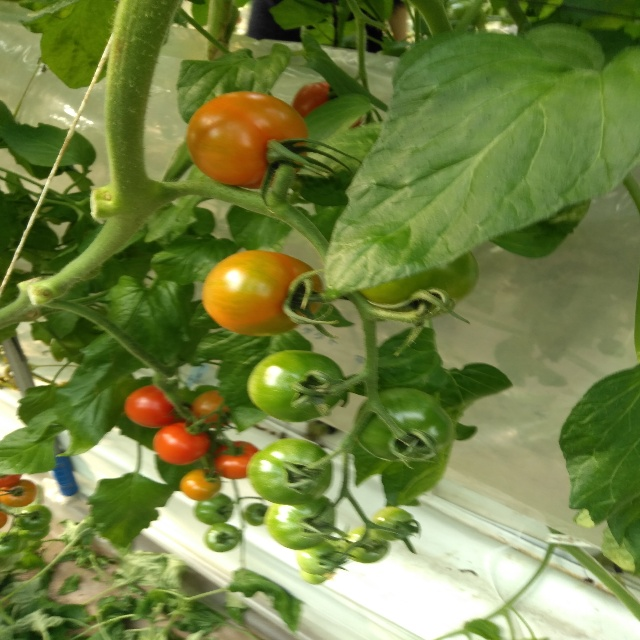l_fully_ripened: (154, 422, 212, 465), (124, 385, 180, 428), (0, 473, 23, 488)
l_green: (358, 251, 478, 318), (354, 387, 453, 461), (246, 350, 346, 423), (246, 438, 332, 506), (264, 495, 335, 551), (343, 525, 390, 563), (372, 505, 414, 541), (297, 542, 340, 575), (195, 492, 233, 524), (202, 522, 239, 552), (16, 504, 52, 531)
l_half_ripened: (184, 91, 307, 189), (203, 250, 325, 337), (210, 440, 259, 479), (192, 390, 233, 428), (179, 468, 222, 501), (0, 479, 38, 508)
